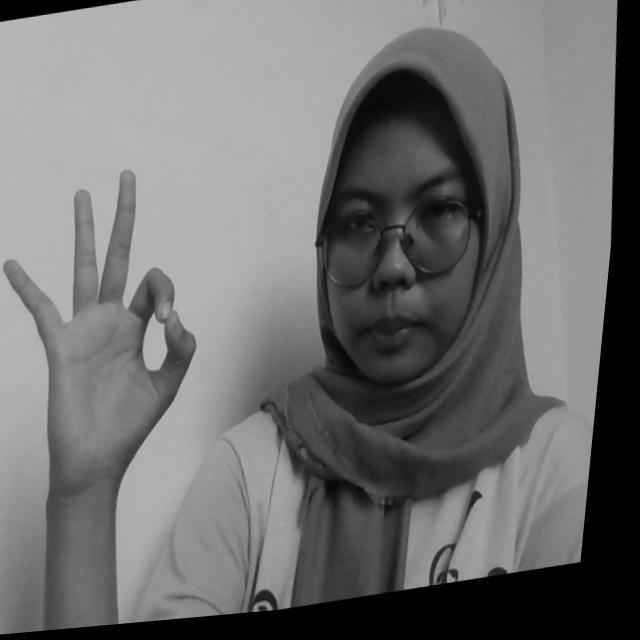F: (1, 158, 227, 500)
